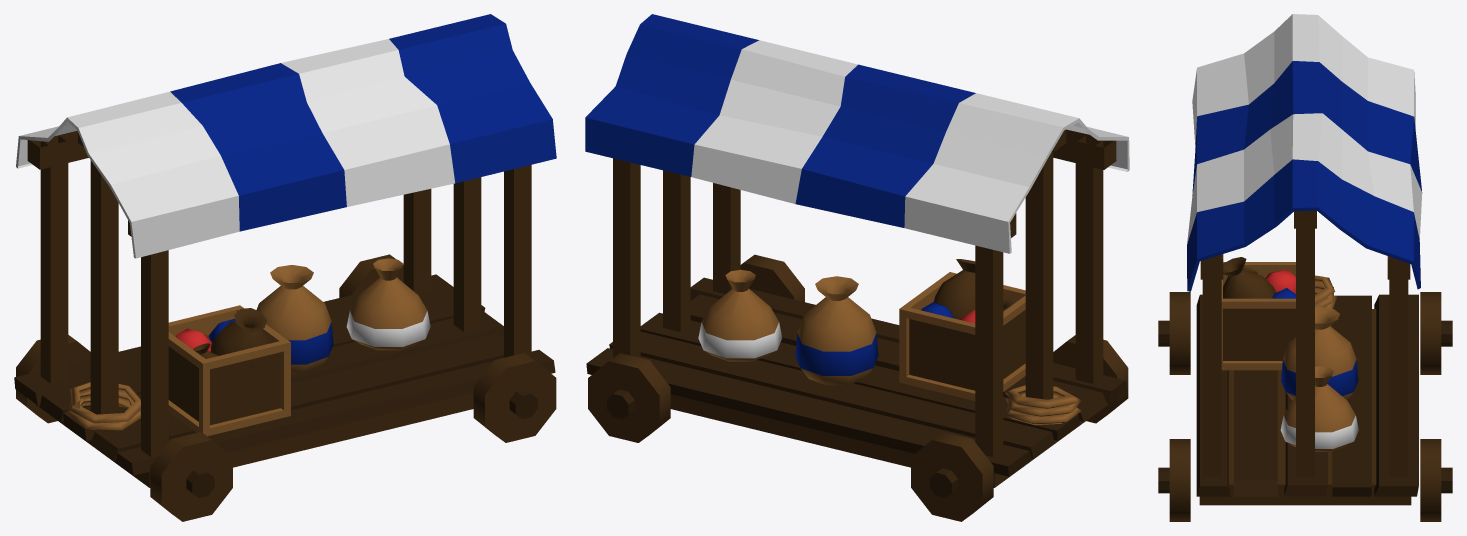
File: Tradepost.FBX
The picture shows the model from 3 angles, left to right: view 1: azimuth 30°, elevation 25°; view 2: azimuth 150°, elevation 25°; view 3: azimuth 270°, elevation 25°; orthographic projection. The views are drawn at different scales.
Parts seen in each view (by area): view 1: Plane001, Box003, Cylinder001, Box004, Box007, Box002, Object004, Cylinder003, Cylinder004, Box001, Object003, Object001 (+4 smaller); view 2: Plane001, Box003, Cylinder001, Box004, Object001, Object002, Box007, Cylinder004, Cylinder003, Box001, Object003, Box002 (+4 smaller); view 3: Plane001, Cylinder001, Box003, Box007, Object004, Object002, Object001, Box001, Box004, Cylinder004, Cylinder003, Box002 (+6 smaller).
Part boxes in pixels (left/top/right/bottom): Plane001: left=16, top=14, right=556, bottom=258; Box003: left=40, top=135, right=531, bottom=456; Cylinder001: left=16, top=254, right=556, bottom=521; Box004: left=90, top=160, right=481, bottom=414; Box007: left=168, top=305, right=290, bottom=436; Box002: left=115, top=350, right=555, bottom=475; Object004: left=90, top=333, right=503, bottom=460; Cylinder003: left=346, top=258, right=430, bottom=350; Cylinder004: left=256, top=265, right=333, bottom=373; Box001: left=36, top=392, right=473, bottom=487; Object003: left=63, top=310, right=503, bottom=441; Object001: left=14, top=274, right=453, bottom=405; Plane001: left=585, top=14, right=1129, bottom=253; Box003: left=613, top=135, right=1103, bottom=457; Cylinder001: left=588, top=254, right=1128, bottom=521; Box004: left=663, top=151, right=1053, bottom=399; Object001: left=586, top=348, right=1031, bottom=476; Object002: left=609, top=331, right=1054, bottom=458; Box007: left=899, top=272, right=1025, bottom=400; Cylinder004: left=795, top=276, right=878, bottom=385; Cylinder003: left=698, top=269, right=782, bottom=361; Box001: left=670, top=394, right=1108, bottom=487; Object003: left=640, top=312, right=1080, bottom=440; Box002: left=690, top=277, right=1127, bottom=403; Plane001: left=1187, top=14, right=1422, bottom=291; Cylinder001: left=1158, top=292, right=1452, bottom=521; Box003: left=1202, top=254, right=1408, bottom=476; Box007: left=1221, top=262, right=1295, bottom=370; Object004: left=1234, top=370, right=1277, bottom=496; Object002: left=1332, top=295, right=1371, bottom=496; Object001: left=1374, top=294, right=1418, bottom=496; Box001: left=1199, top=309, right=1411, bottom=505; Box004: left=1296, top=228, right=1314, bottom=476; Cylinder004: left=1281, top=306, right=1358, bottom=400; Cylinder003: left=1280, top=366, right=1358, bottom=451; Box002: left=1196, top=294, right=1230, bottom=496.
Bounding box in the file's own units: 123 × 96.47 × 77.78.
